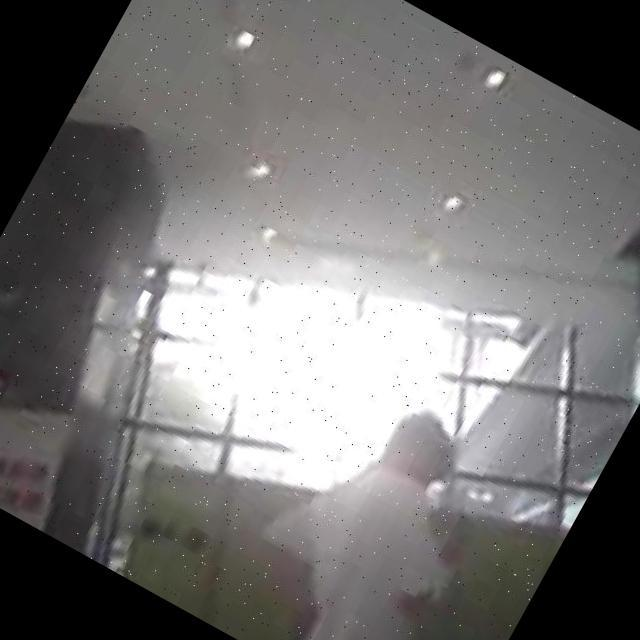person: (219, 373, 553, 640)
